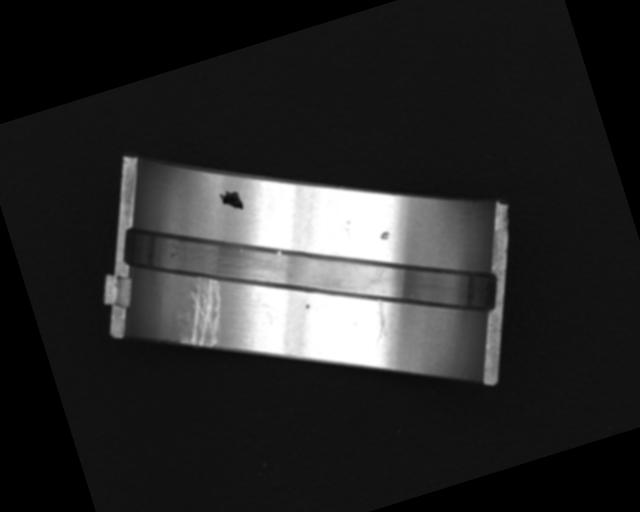blot: (216, 187, 246, 216)
bruise: (379, 230, 391, 241), (303, 301, 310, 309)
gap: (118, 128, 507, 410)
nick: (363, 298, 395, 348)
scratch: (164, 275, 235, 355)
